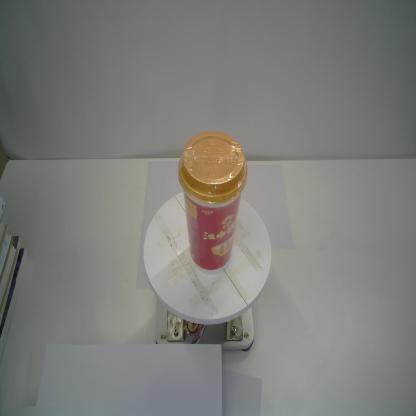Instant Drink: (177, 130, 248, 276)
